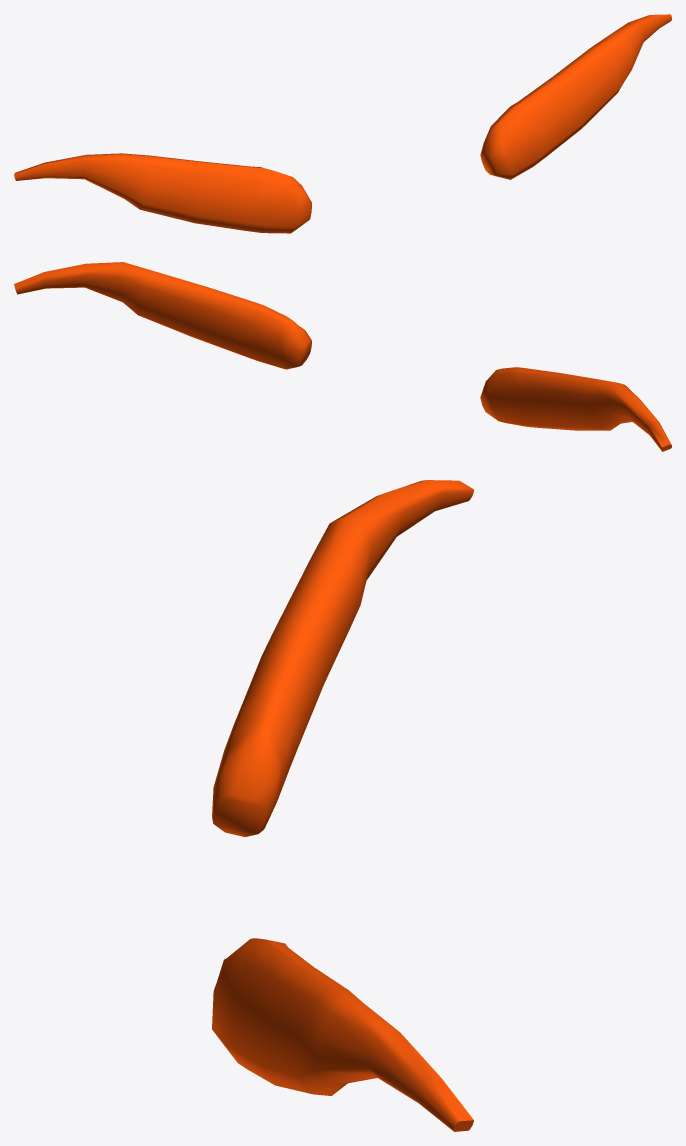
The model's file is Eyebrows_03_06.fbx.
3 renders of one model, top to bottom at view 1: azimuth 30°, elevation 25°; view 2: azimuth 150°, elevation 25°; view 3: azimuth 270°, elevation 25°, orthographic. The views are drawn at different scales.
Parts seen in each view (by area): view 1: Eyebrows_03_06; view 2: Eyebrows_03_06; view 3: Eyebrows_03_06.
Boxes of the visible parts, box(x1,y1,x2,y2) form: Eyebrows_03_06: box(14, 14, 671, 233); Eyebrows_03_06: box(14, 262, 671, 451); Eyebrows_03_06: box(212, 480, 473, 1131).
Bounding box in the file's own units: 18.82 × 2.52 × 3.25.
